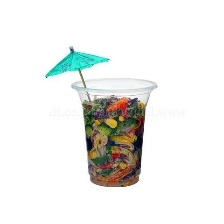glass: (68, 72, 163, 190)
